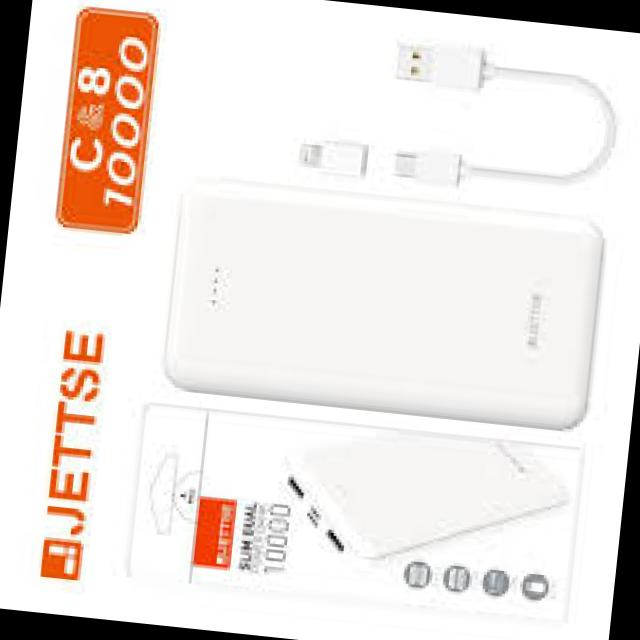power_bank: (154, 170, 610, 433), (282, 416, 572, 574)
